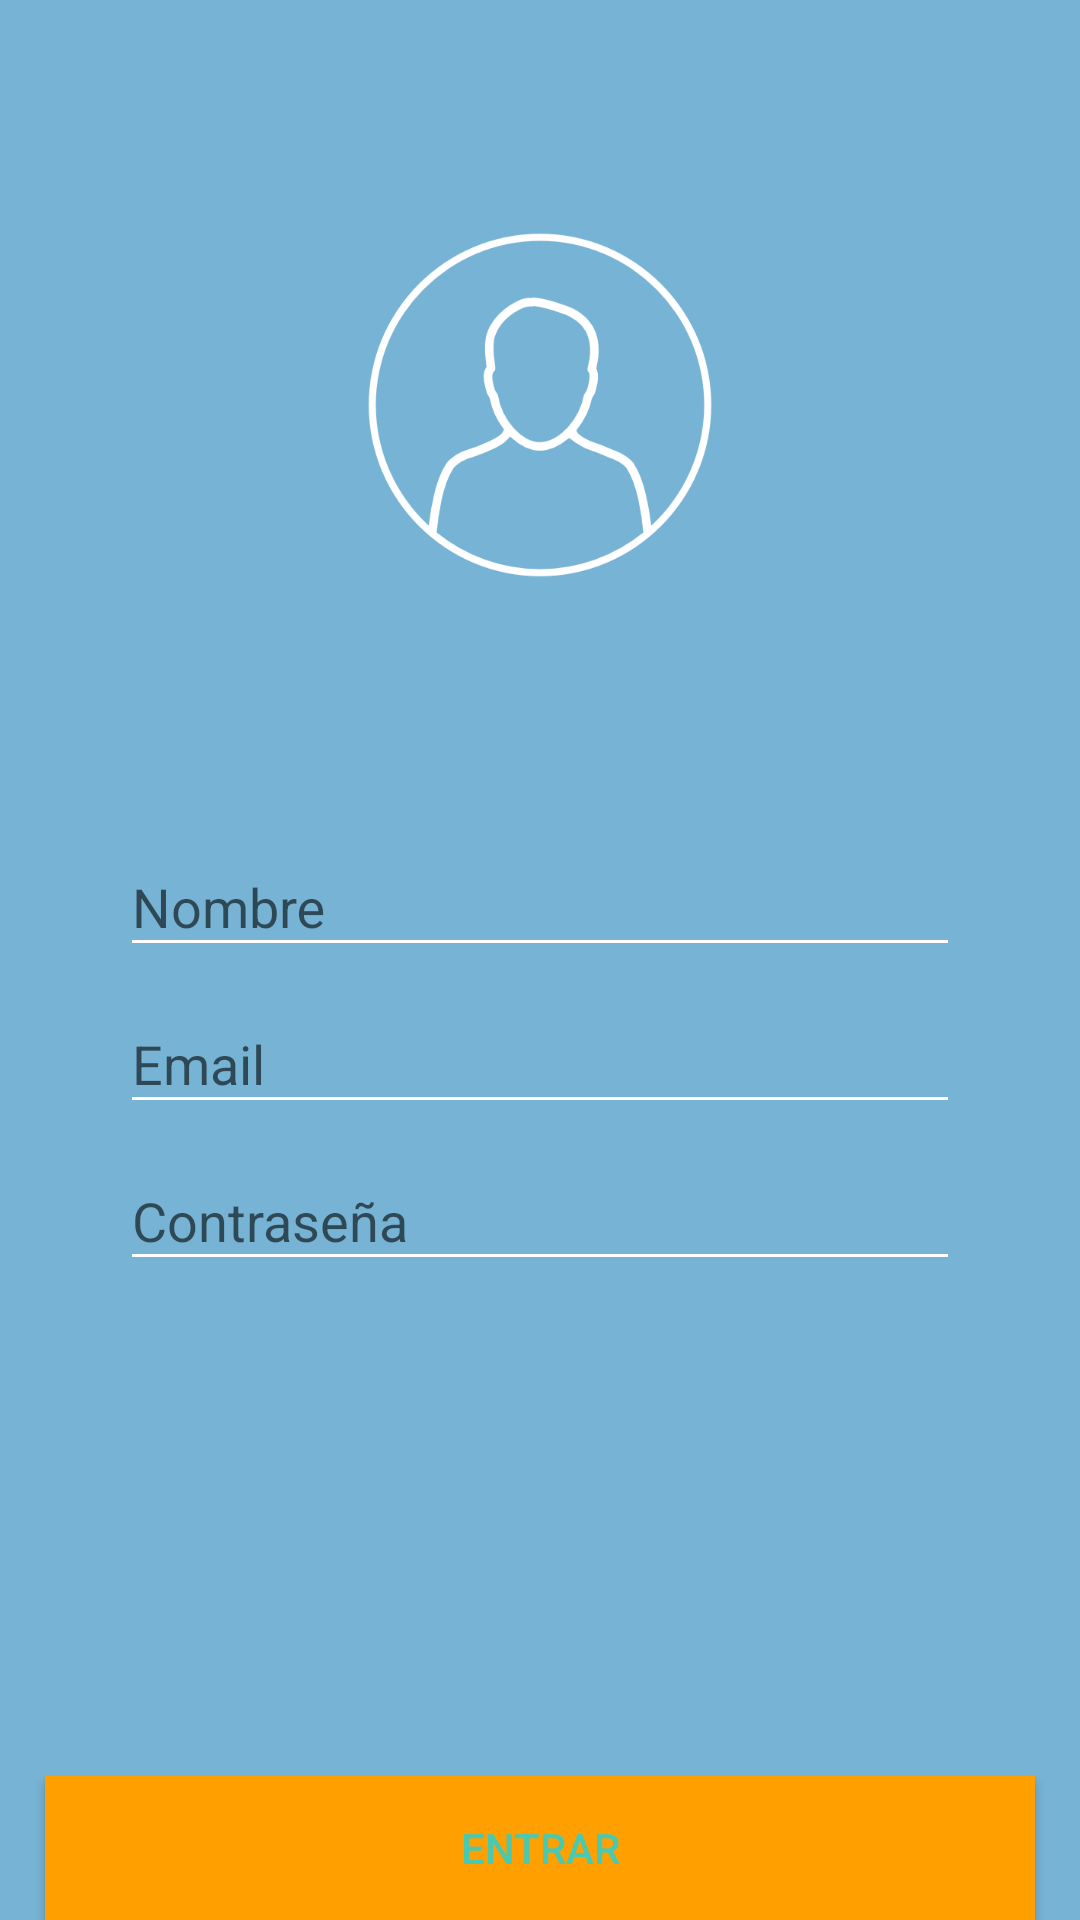

Icon click points for this 1080×1920 phone screenshot, format (x=x, y=y):
user sign up: (x=540, y=405)
